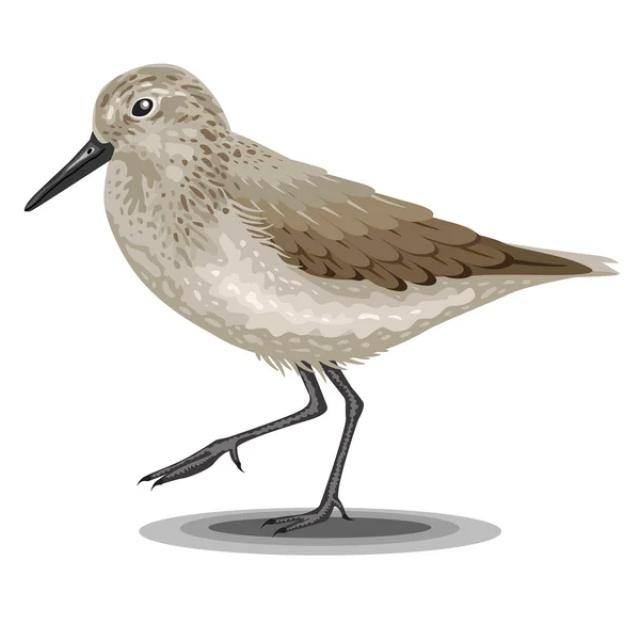Sandpiper: (20, 58, 607, 554)
